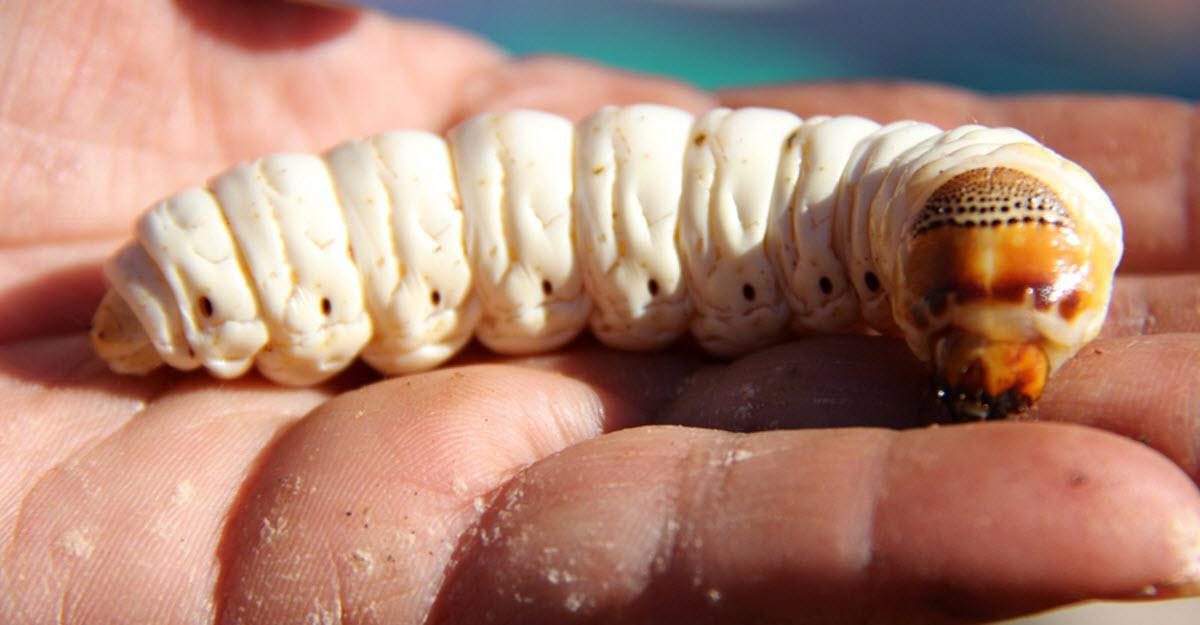grub: (86, 96, 1130, 421)
